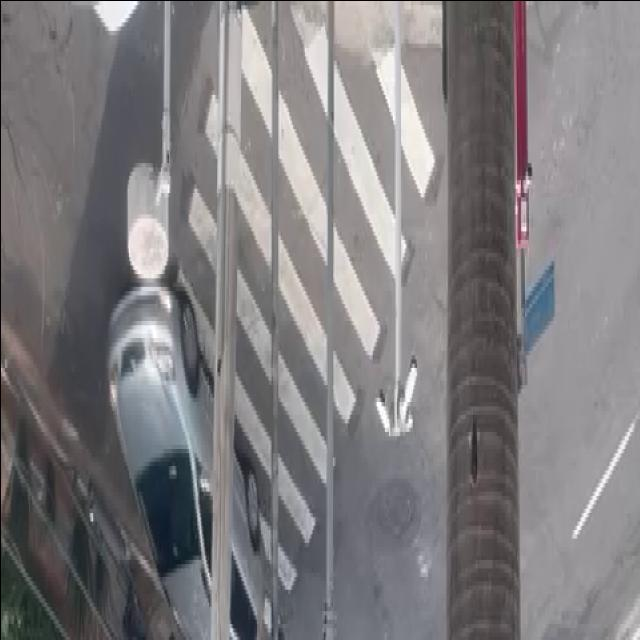car: (107, 283, 268, 640)
